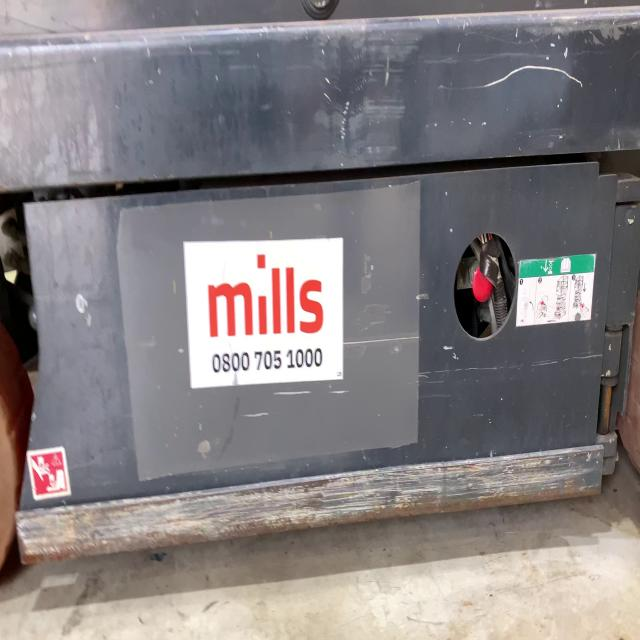Adesivos: (182, 228, 352, 400)
